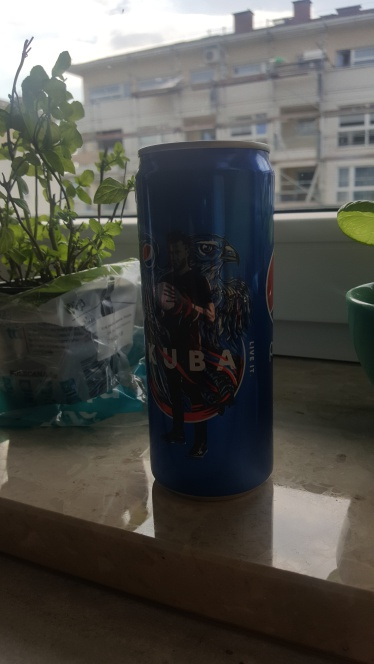pepsi: (133, 135, 285, 515)
